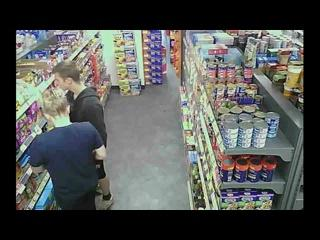shoplifting: (28, 87, 110, 211), (51, 61, 112, 189)
